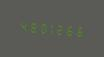eight: (27, 17, 36, 35)
four: (17, 17, 26, 34)
one: (47, 19, 56, 37)
six: (67, 21, 76, 39), (77, 22, 86, 40)
two: (57, 20, 66, 38)
zero: (37, 18, 46, 36)
